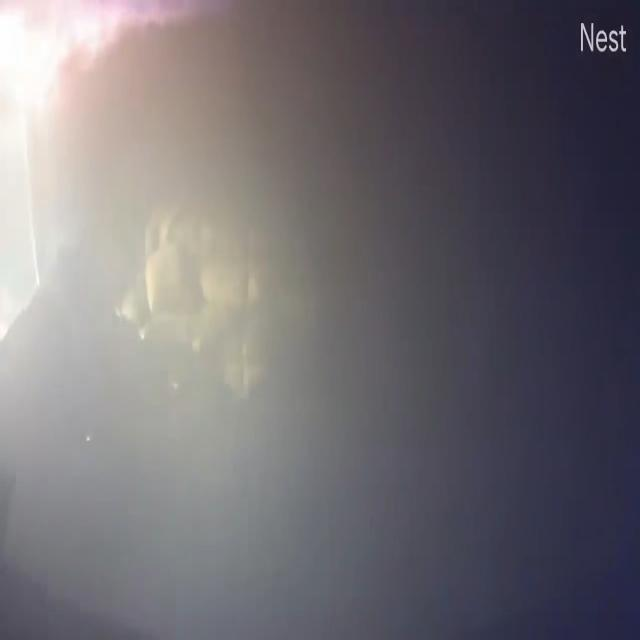Fire: (0, 0, 166, 216)
